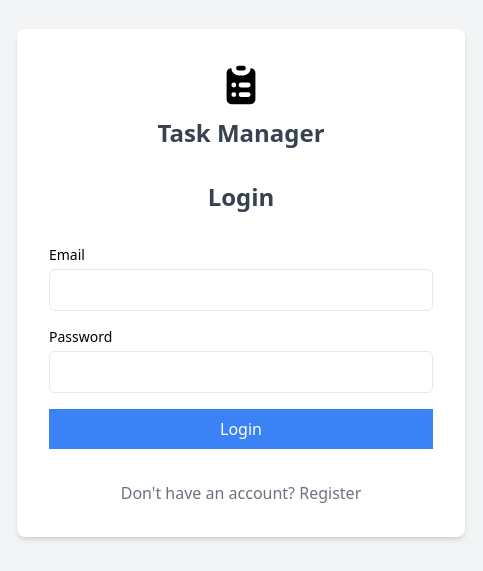
Scenario: Login Component › shows 2FA form when required
Fill form with 2FA user
Type "2fa@example.com" into the field labelled "Email" at x=241, y=290, box [49,269,433,311]
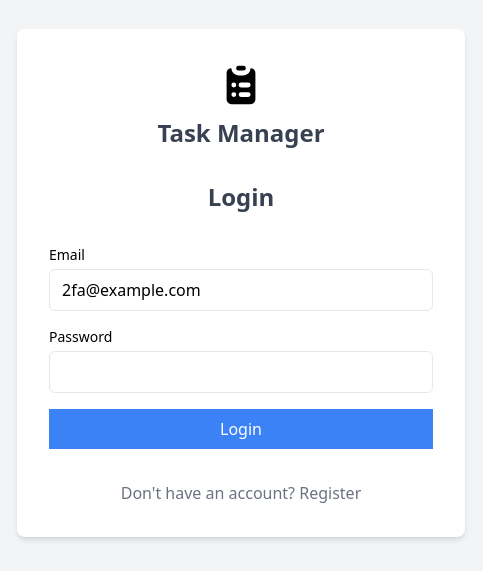
Type "password123" into the password field labelled "Password" at x=241, y=372, box [49,351,433,393]
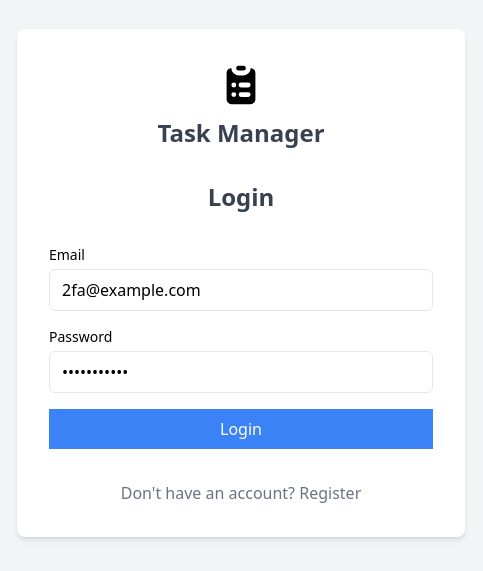
Submit form
Click the button "Login" at x=241, y=429, box [49,409,433,449]
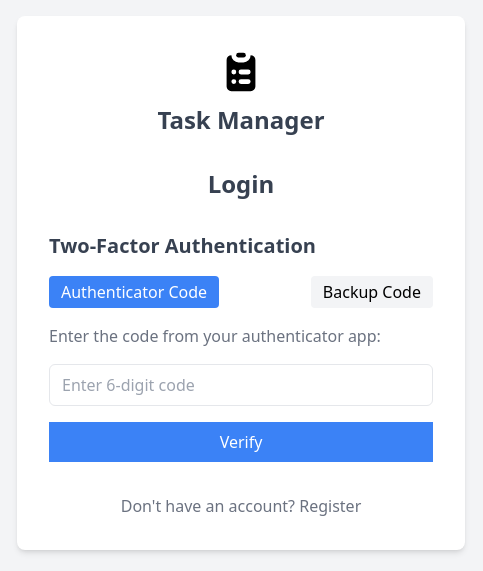
Expected: the heading "Two-Factor Authentication" is shown, [49,232,316,259]
Expected: the button "Verify" is shown, [49,422,433,462]
